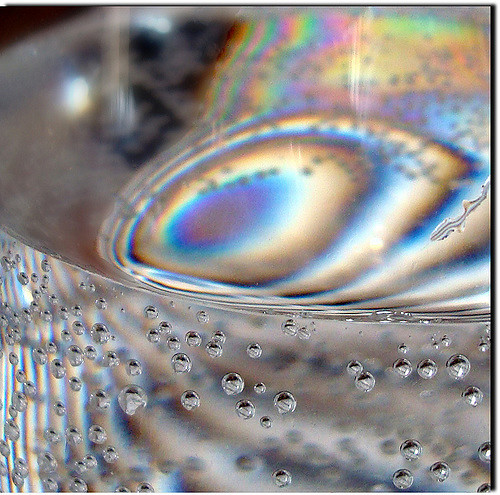glass of water: (39, 26, 418, 491)
